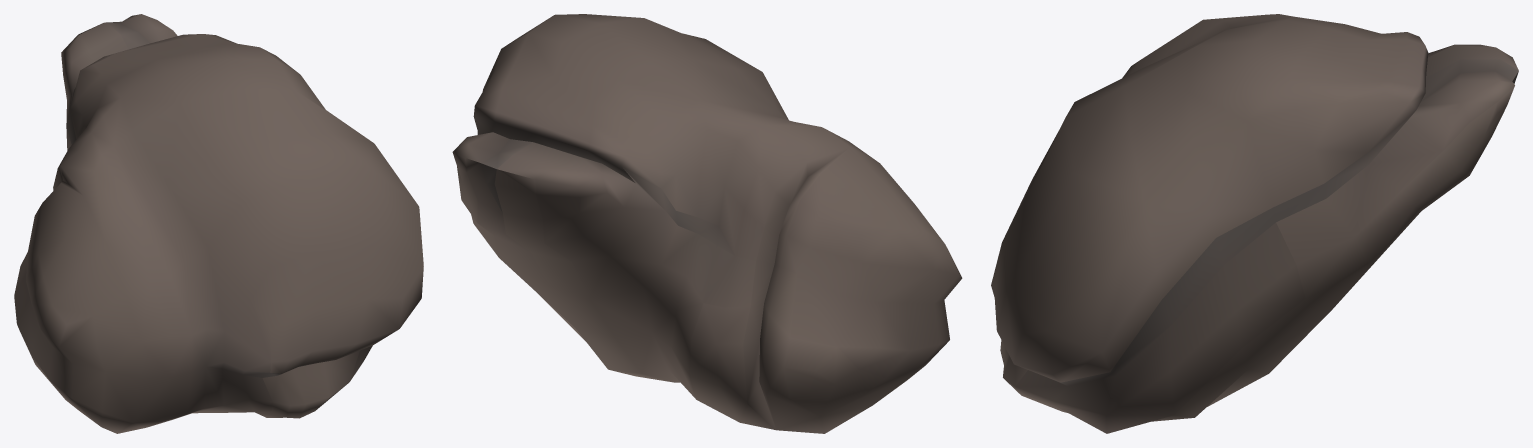
File: SlantedRock.005.glb
3 renders of one model, left to right at view 1: azimuth 30°, elevation 25°; view 2: azimuth 150°, elevation 25°; view 3: azimuth 270°, elevation 25°, orthographic. The views are drawn at different scales.
Parts seen in each view (by area): view 1: SlantedRock.005; view 2: SlantedRock.005; view 3: SlantedRock.005.
Boxes of the visible parts, x1,y1,x2,y2 form: SlantedRock.005: [14, 14, 423, 433]; SlantedRock.005: [452, 14, 962, 433]; SlantedRock.005: [991, 14, 1518, 433].
Size of the model in its own units: 1402 by 1097 by 1367.
